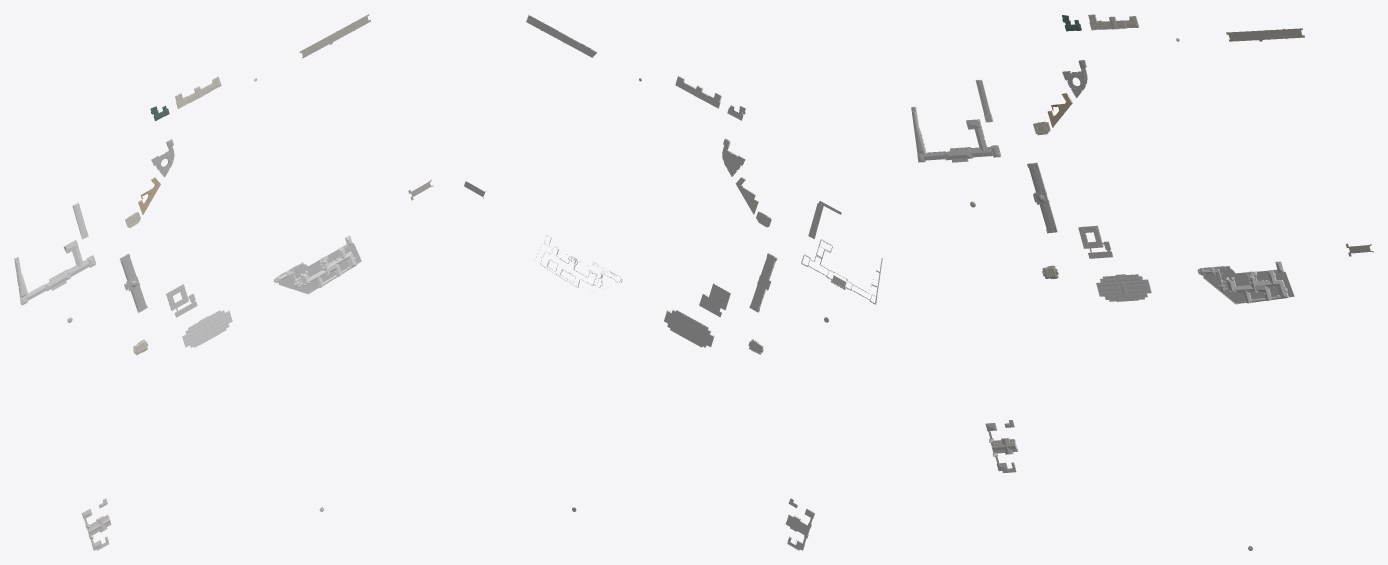
3 renders of one model, left to right at view 1: azimuth 30°, elevation 25°; view 2: azimuth 150°, elevation 25°; view 3: azimuth 330°, elevation 25°, orthographic. The views are drawn at different scales.
Bounding box in the file's own units: 6776 × 7505 × 68.66.
